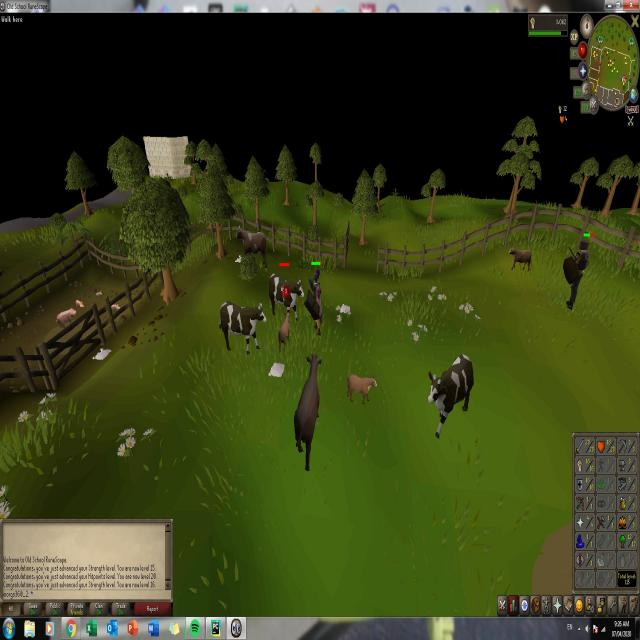cow: (424, 350, 474, 440), (294, 350, 322, 470), (215, 297, 267, 357), (267, 268, 304, 310), (235, 225, 268, 264), (343, 370, 378, 405), (508, 244, 532, 274), (278, 309, 290, 354)
player: (308, 266, 325, 338)
